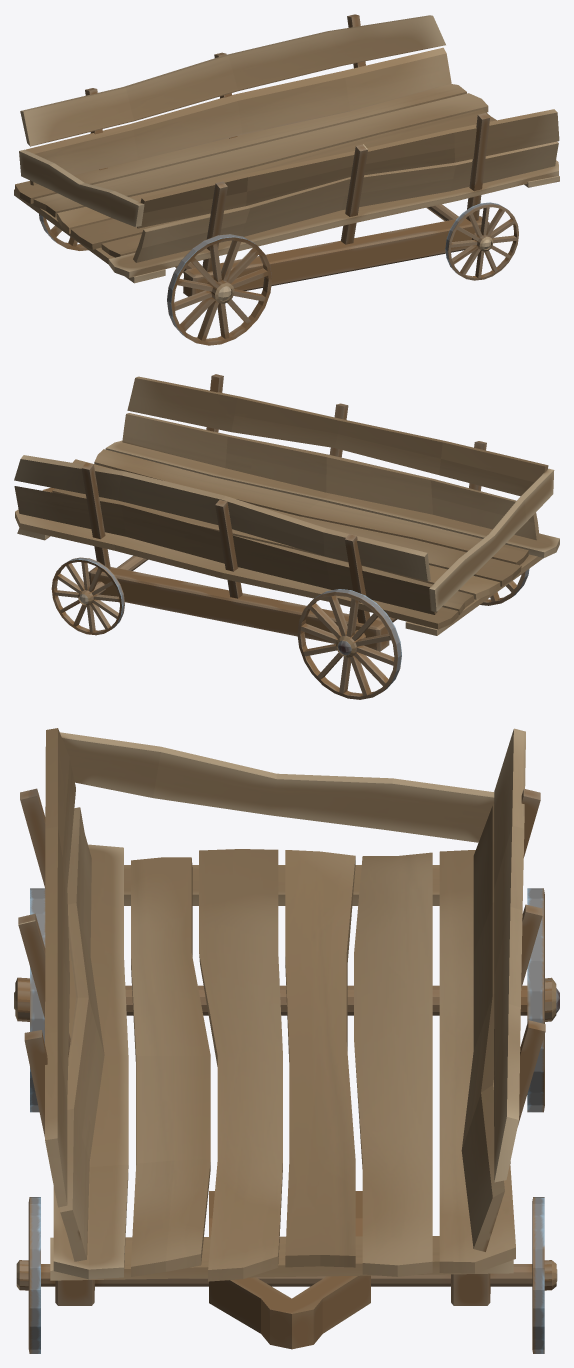
Rendered from Wagon.fbx.
The picture shows the model from 3 angles, top to bottom: view 1: azimuth 30°, elevation 25°; view 2: azimuth 150°, elevation 25°; view 3: azimuth 270°, elevation 25°; orthographic projection. The views are drawn at different scales.
Visible parts, largest first — view 1: Wagon_LP; view 2: Wagon_LP; view 3: Wagon_LP.
Part boxes in pixels (<box>): Wagon_LP: <box>14,14,559,345</box>; Wagon_LP: <box>14,374,559,699</box>; Wagon_LP: <box>14,728,559,1353</box>.
Size of the model in its own units: 619 by 216 by 328.
